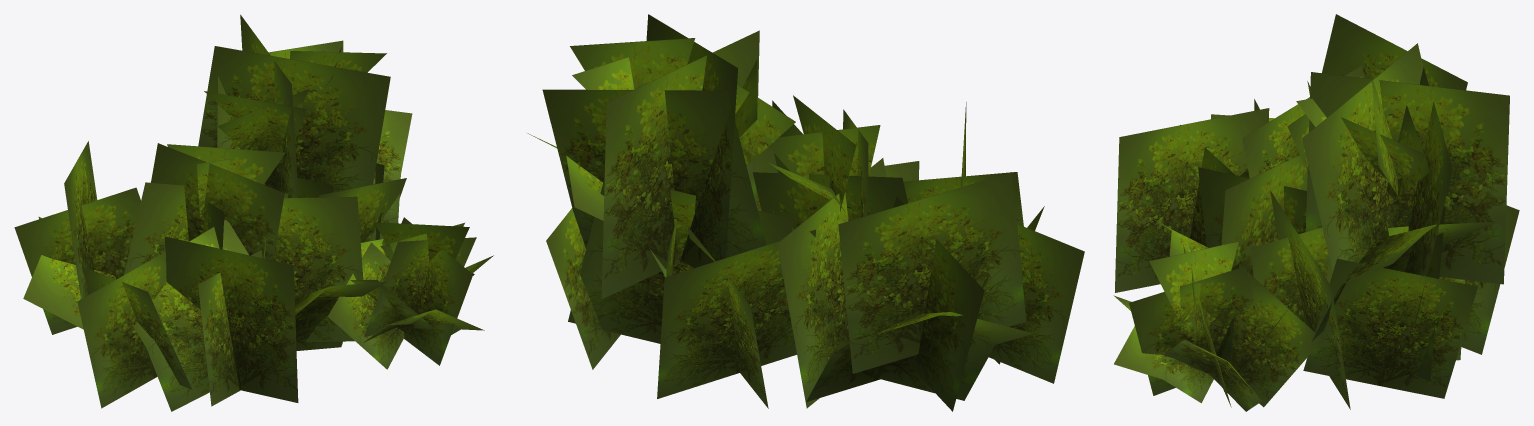
File: yw_huanghunhupan_guanmu03.FBX
3 renders of one model, left to right at view 1: azimuth 30°, elevation 25°; view 2: azimuth 150°, elevation 25°; view 3: azimuth 270°, elevation 25°, orthographic. The views are drawn at different scales.
Visible parts, largest first — view 1: yw_huanghunhupan_guanmu03; view 2: yw_huanghunhupan_guanmu03; view 3: yw_huanghunhupan_guanmu03.
Part boxes in pixels (x1,y1,x2,y2): yw_huanghunhupan_guanmu03: (14, 14, 493, 411); yw_huanghunhupan_guanmu03: (527, 14, 1084, 411); yw_huanghunhupan_guanmu03: (1113, 14, 1519, 411).
Bounding box in the file's own units: 203 × 129 × 155.
